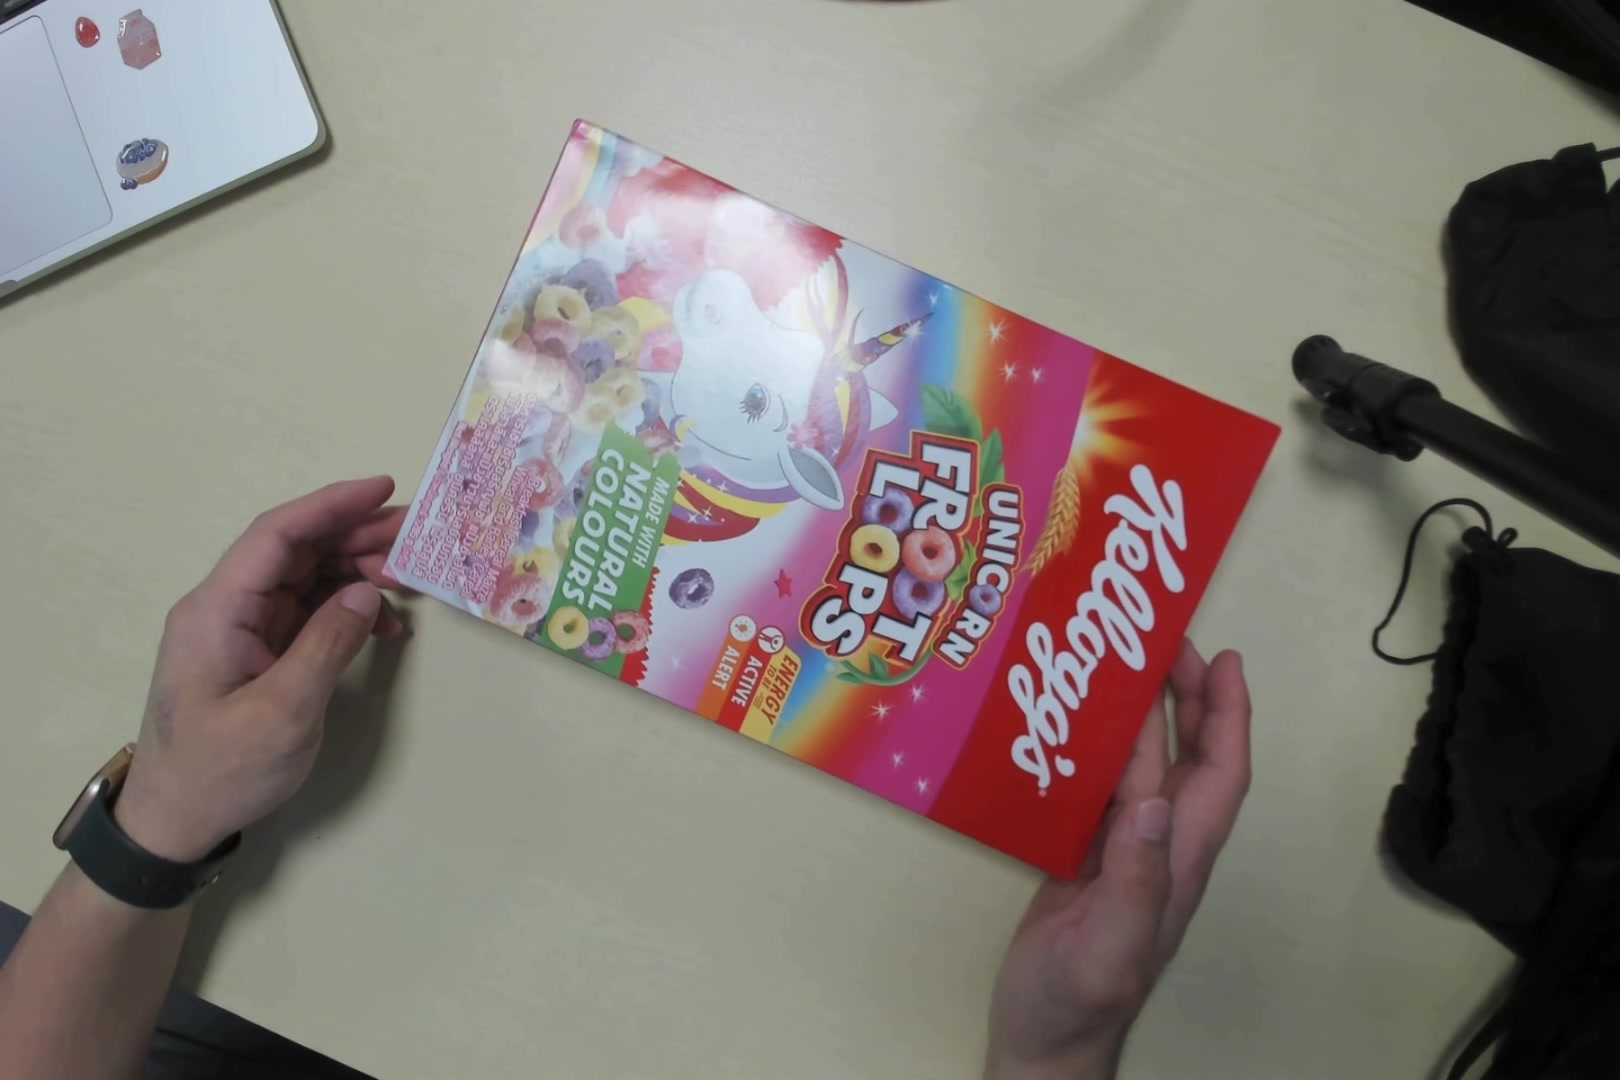BreakfastCereals_200-299g_Halal_NonHealthy: (385, 124, 1202, 824)
